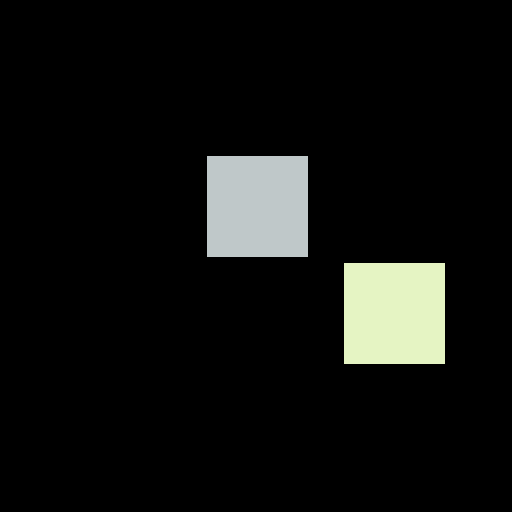square: (344, 263, 444, 363), (207, 156, 307, 256)
